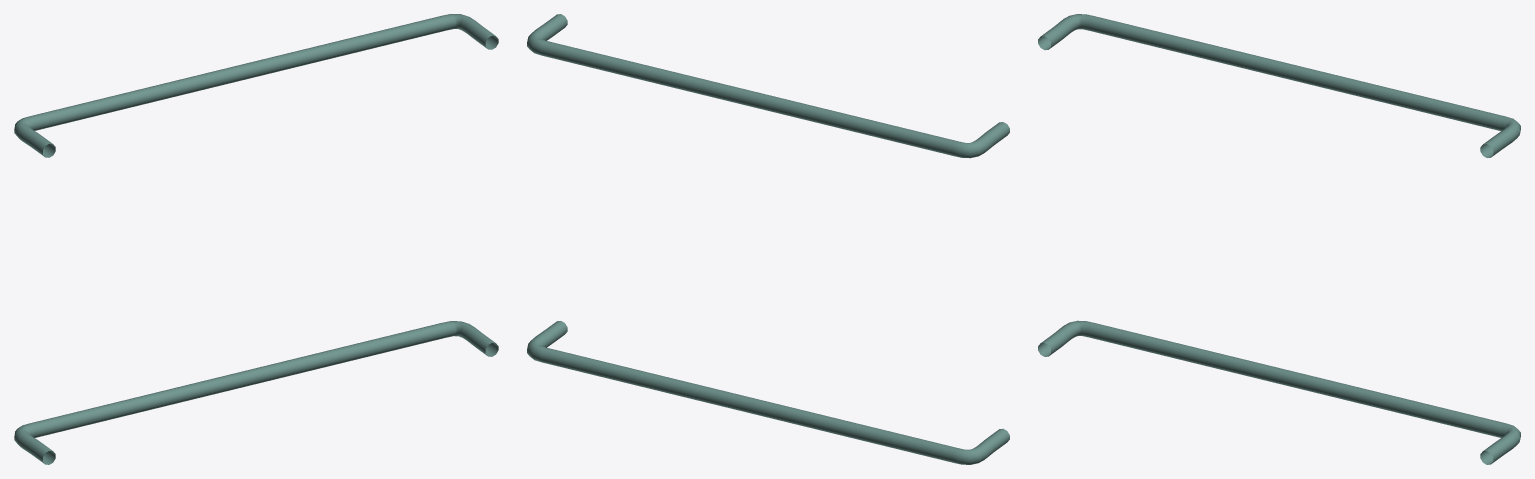
File: SM_RinghieraFerro_LP.fbx
3 renders of one model, left to right at view 1: azimuth 30°, elevation 25°; view 2: azimuth 150°, elevation 25°; view 3: azimuth 330°, elevation 25°, orthographic.
Parts seen in each view (by area): view 1: polySurface1219; view 2: polySurface1219; view 3: polySurface1219.
Boxes of the visible parts, box(x1,y1,x2,y2) form: polySurface1219: box(14, 14, 498, 464); polySurface1219: box(527, 14, 1009, 464); polySurface1219: box(1038, 14, 1520, 464).
Size of the model in its own units: 139 by 93.25 by 18.84.
